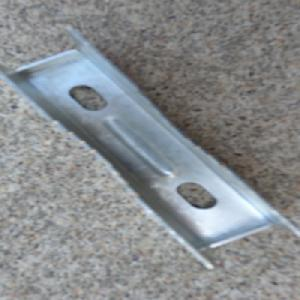ClampPart: (0, 26, 300, 270)
